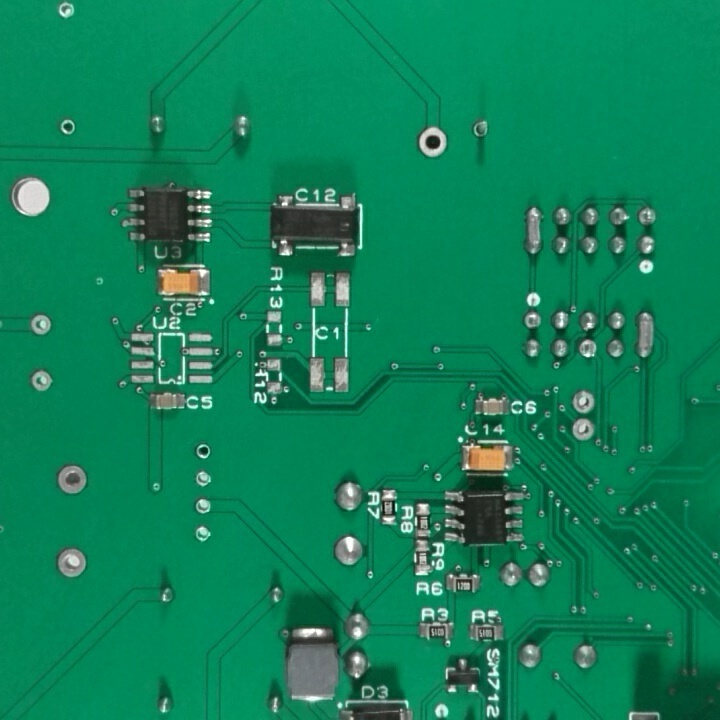F: (52, 544, 93, 586), (416, 122, 452, 164), (56, 461, 90, 500), (567, 385, 596, 420), (567, 414, 596, 447), (27, 312, 57, 341), (26, 368, 56, 396), (191, 520, 216, 549), (469, 116, 492, 146), (637, 203, 658, 235), (576, 337, 599, 365), (52, 2, 81, 24), (520, 308, 544, 334), (191, 437, 213, 463), (57, 118, 79, 141), (194, 493, 212, 520), (194, 469, 212, 491)
P: (521, 203, 548, 261), (634, 308, 656, 364)
